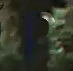Parking: (13, 3, 69, 67)
